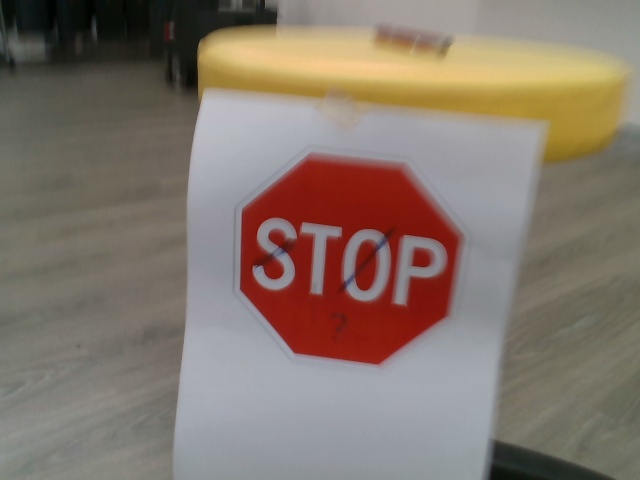stop: (230, 149, 472, 371)
